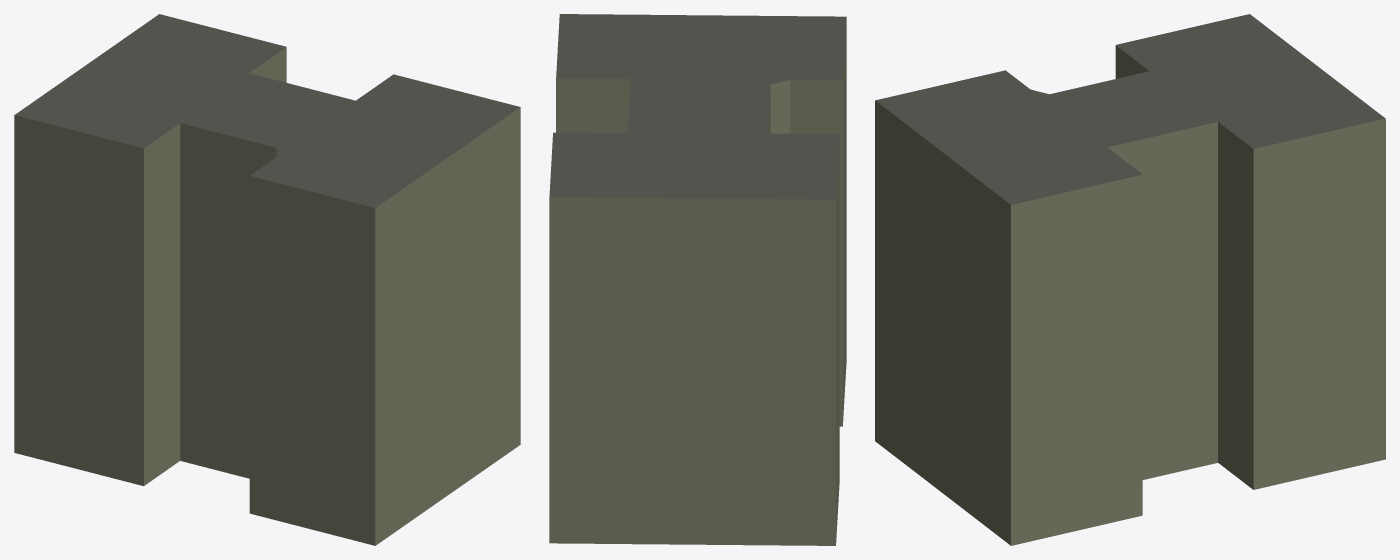
File: nyc-1022611-0.glb
The picture shows the model from 3 angles, left to right: view 1: azimuth 30°, elevation 25°; view 2: azimuth 150°, elevation 25°; view 3: azimuth 270°, elevation 25°; orthographic projection. The views are drawn at different scales.
Visible parts, largest first — view 1: nyc-1022611-0; view 2: nyc-1022611-0; view 3: nyc-1022611-0.
Boxes of the visible parts, x1,y1,x2,y2 form: nyc-1022611-0: (14,14,520,545); nyc-1022611-0: (549,14,846,545); nyc-1022611-0: (875,14,1385,545).
Size of the model in its own units: 29.35 by 24.43 by 33.16.
